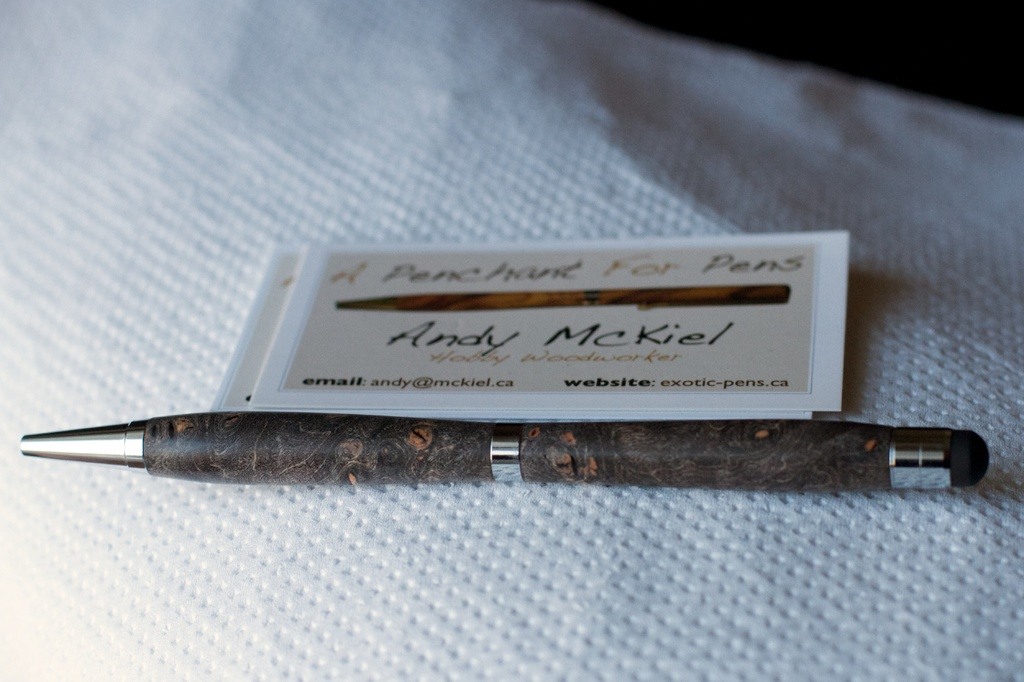Pen: (15, 401, 988, 488)
